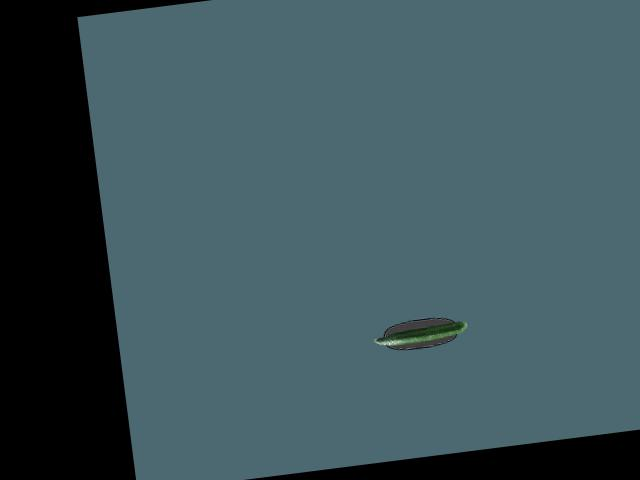cucumber: (372, 320, 468, 347)
